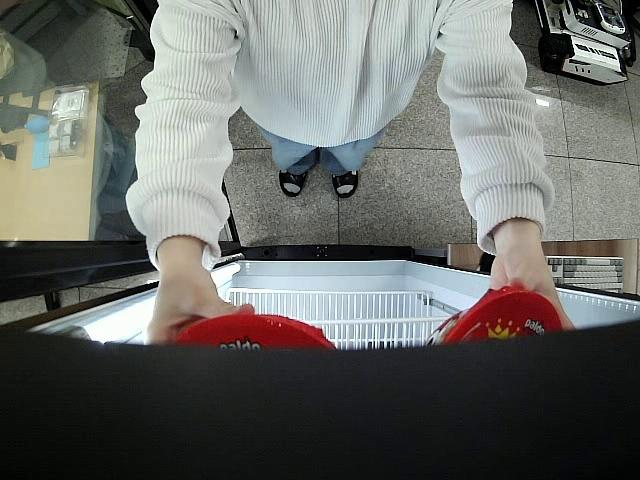00_hand: (488, 229, 576, 334), (145, 279, 255, 345)
10_wangTtukkeong: (426, 289, 561, 344), (164, 312, 338, 354)
